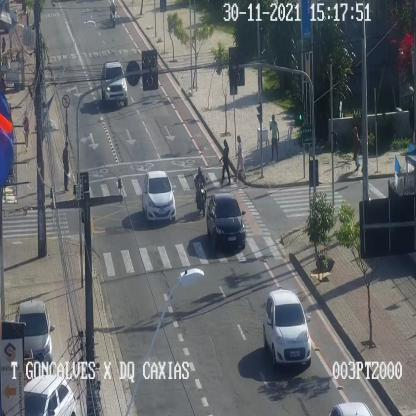car: (263, 289, 311, 364), (16, 301, 52, 372), (23, 374, 76, 416), (206, 193, 245, 247), (142, 170, 175, 219), (101, 61, 127, 106)
motorbike: (194, 166, 207, 216), (108, 0, 118, 26)
person: (234, 135, 246, 181), (219, 139, 230, 184), (269, 114, 279, 160), (62, 140, 70, 191), (22, 110, 30, 150), (353, 126, 360, 170)
